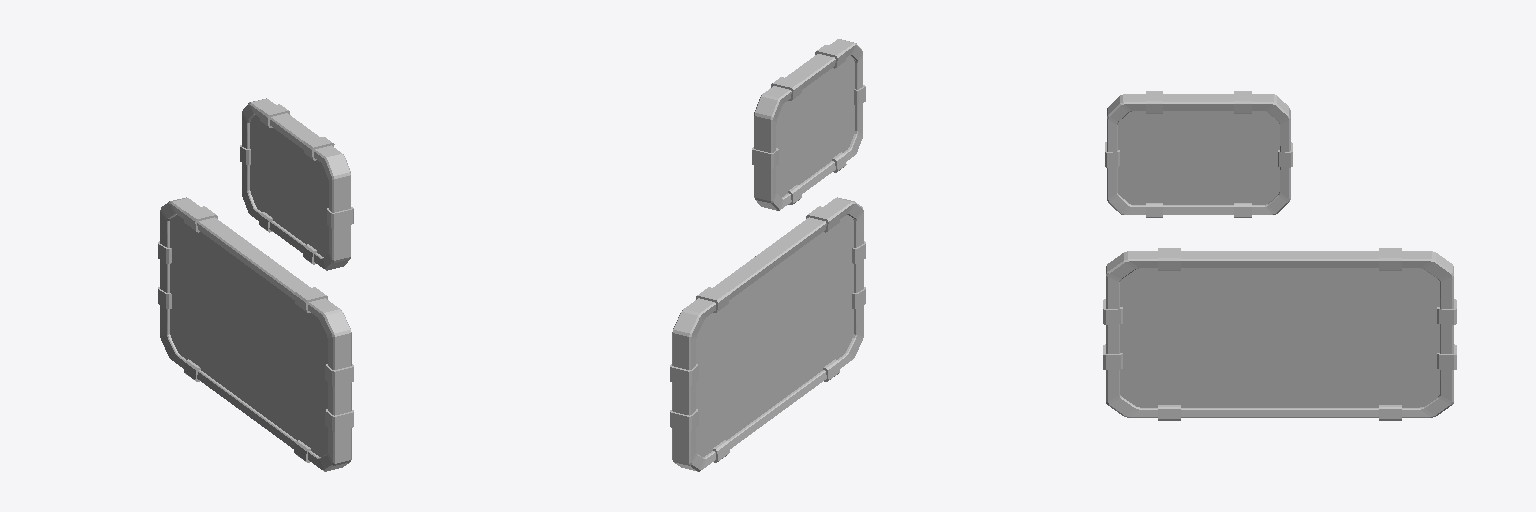
The model's file is Billboards.obj.
The picture shows the model from 3 angles: view 1: azimuth 30°, elevation 25°; view 2: azimuth 150°, elevation 25°; view 3: azimuth 270°, elevation 25°; orthographic projection.
Parts seen in each view (by area): view 1: Sign_Big Panel, Sign_Big, Sign_Small Panel, Sign_Small; view 2: Sign_Big Panel, Sign_Big, Sign_Small Panel, Sign_Small; view 3: Sign_Big Panel, Sign_Small Panel, Sign_Big, Sign_Small.
Boxes of the visible parts, box(x1,y1,x2,y2) form: Sign_Big Panel: box(170, 215, 327, 456); Sign_Big: box(158, 197, 353, 471); Sign_Small Panel: box(250, 115, 328, 256); Sign_Small: box(240, 98, 353, 270); Sign_Big Panel: box(696, 215, 853, 456); Sign_Big: box(670, 197, 865, 471); Sign_Small Panel: box(776, 55, 854, 197); Sign_Small: box(752, 39, 865, 210); Sign_Big Panel: box(1120, 268, 1439, 407); Sign_Small Panel: box(1118, 111, 1279, 204); Sign_Big: box(1103, 248, 1456, 420); Sign_Small: box(1105, 91, 1292, 217).
Bounding box in the file's own units: 1.94 × 26.02 × 26.13.